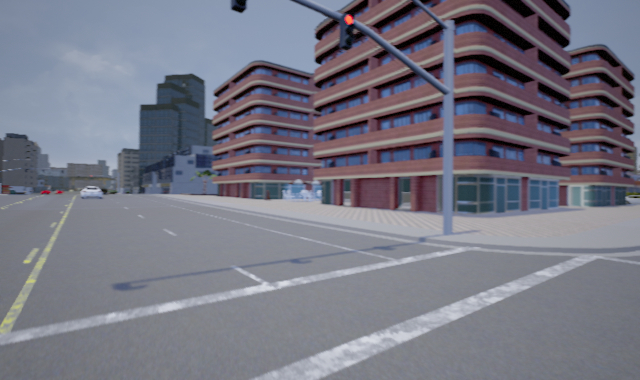traffic_light: (341, 12, 354, 50)
vehicle: (80, 185, 104, 200)
